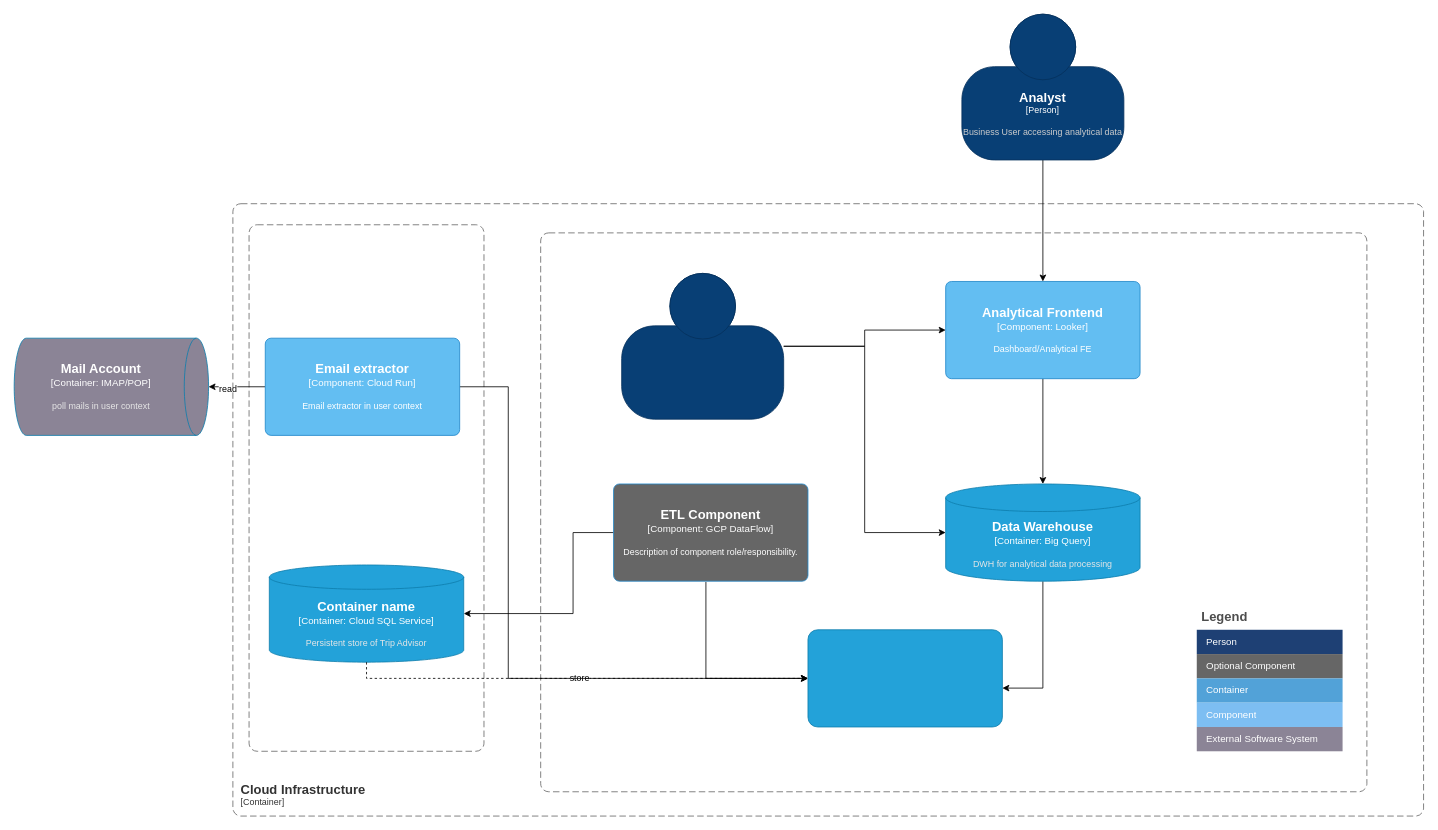
Some shapes in this 1438 by 830 pixel diagram are drawn without their labels. Here are the shapes that lost their labels. From the top down, the box of each, then its label:
(621, 273, 784, 419): Internal Analyst [Person] Internal Business User accessing analytical data
(248, 224, 484, 751): Trip Organizer [Container]
(540, 232, 1367, 792): Analytics [Container]
(807, 629, 1002, 727): Object Store [Container: GCS] object store as separate cloud storage layer
